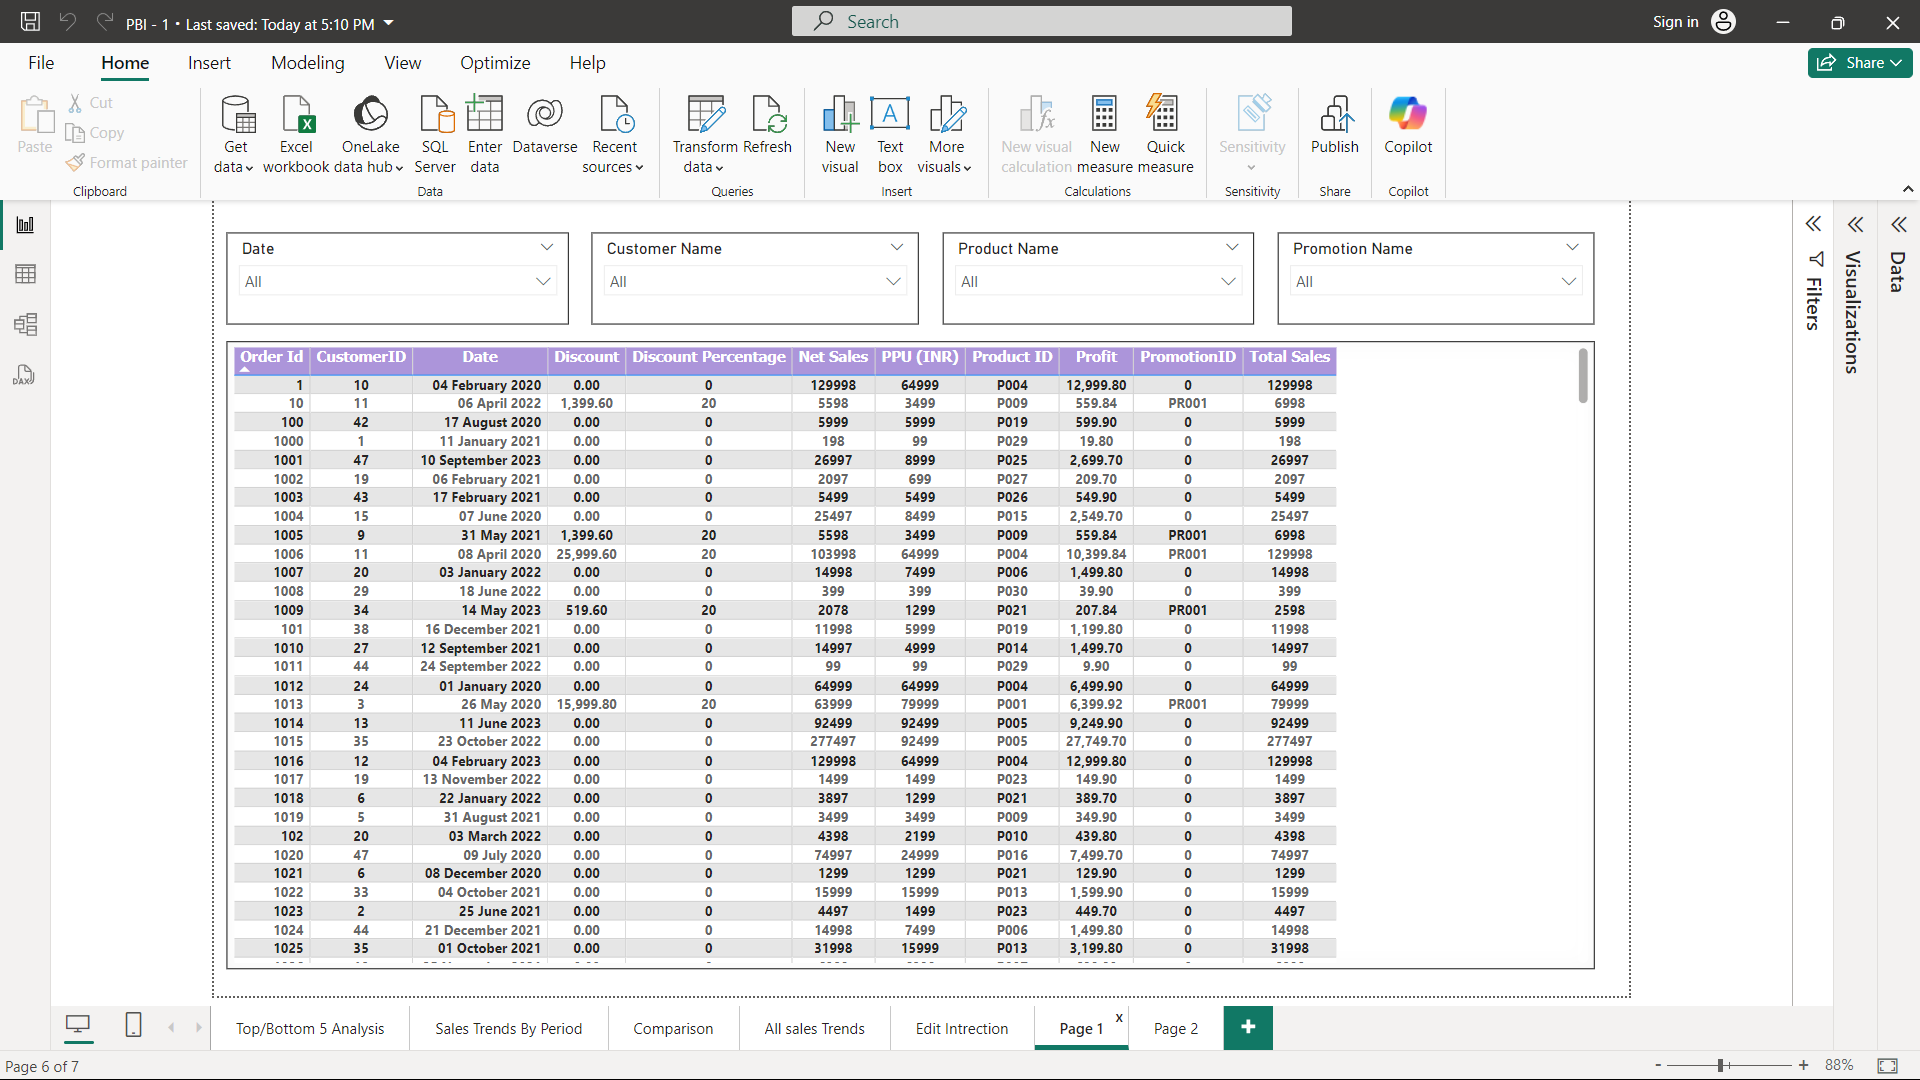

The dashboard page shown, as its layout file describes it:
{"tool":"powerbi","page":{"name":"Page 1","canvas":[1280,720],"ordinal":5},"visuals":[{"type":"tableEx","fields":{"Values":["Fact Table.Order Id","Fact Table.CustomerID","Fact Table.Date (dd/mm/yyyy)","Fact Table.Discount","Fact Table.Discount Percentage","Fact Table.Net Sales","Fact Table.Price Per Unit (INR)","Fact Table.Product ID","Fact Table.Profit","Fact Table.PromotionID","Fact Table.Total Sales"]},"box":[11,128,1237.8,568.3],"z":0},{"type":"slicer","fields":{"Values":["Date Table 1.Date"]},"box":[11,29.3,309.8,82.9],"z":1},{"type":"slicer","fields":{"Values":["Dim Customers.Customer Name"]},"box":[341.9,29.3,296.3,82.9],"z":2},{"type":"slicer","fields":{"Values":["Dim Product.Product Name"]},"box":[659.3,29.3,281.7,82.9],"z":3},{"type":"slicer","fields":{"Values":["Dim Promotion.Promotion Name"]},"box":[962.2,29.3,286.6,82.9],"z":4}]}

Visuals, with their boxes on the page's 1280x720 design canvas (x1, y1, x2, y2). These are canvas units, not pixel positions in the 1920x1080 screenshot, which may show the page scaled, cropped or inside an application window:
tableEx - Fact Table.Order Id x Fact Table.CustomerID: x1=11, y1=128, x2=1249, y2=696
slicer - Date Table 1.Date: x1=11, y1=29, x2=321, y2=112
slicer - Dim Customers.Customer Name: x1=342, y1=29, x2=638, y2=112
slicer - Dim Product.Product Name: x1=659, y1=29, x2=941, y2=112
slicer - Dim Promotion.Promotion Name: x1=962, y1=29, x2=1249, y2=112
